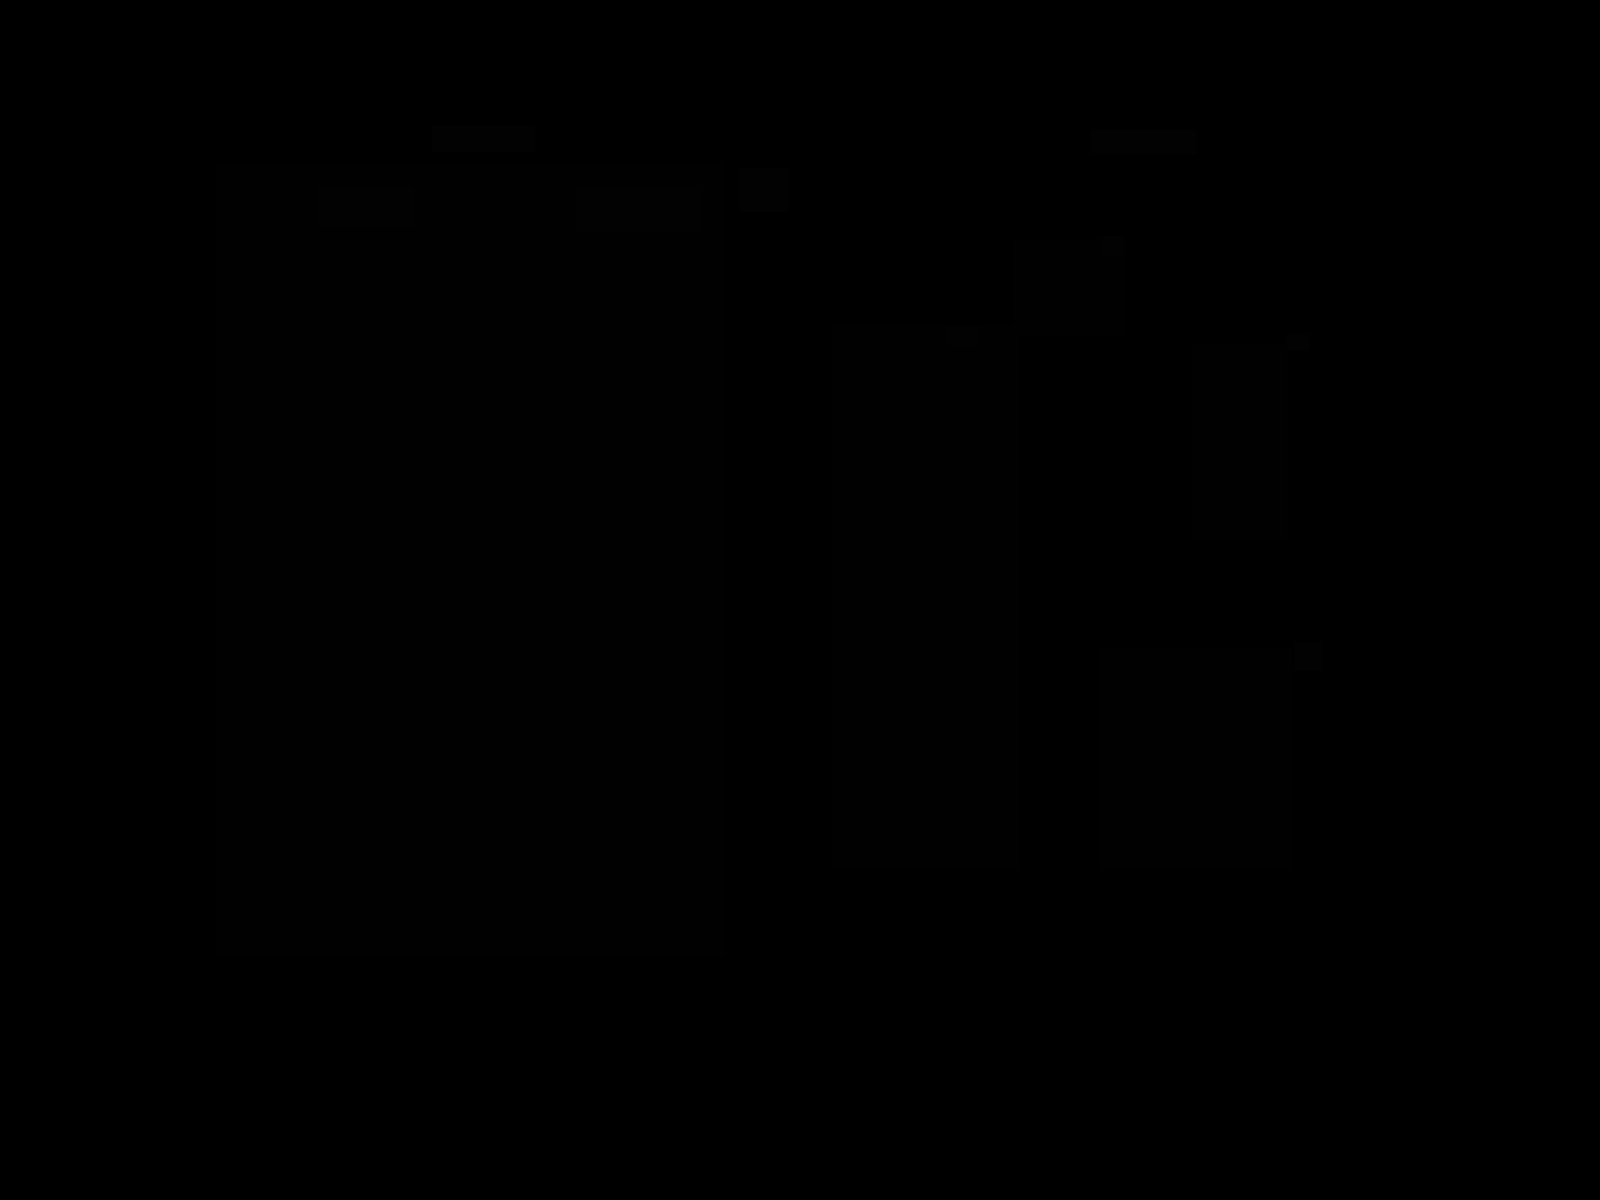1_overall: (89, 50, 1534, 1000)
3_typography: (576, 187, 703, 232), (317, 187, 414, 227), (432, 125, 535, 153), (1091, 130, 1196, 154), (1294, 643, 1322, 671), (946, 326, 978, 345), (1104, 236, 1123, 255), (1288, 334, 1309, 350)
4_illustration: (215, 163, 724, 957), (831, 325, 1018, 870), (1099, 648, 1293, 870), (1191, 345, 1288, 539), (1014, 239, 1126, 337)
5_stamp: (740, 168, 789, 212)
